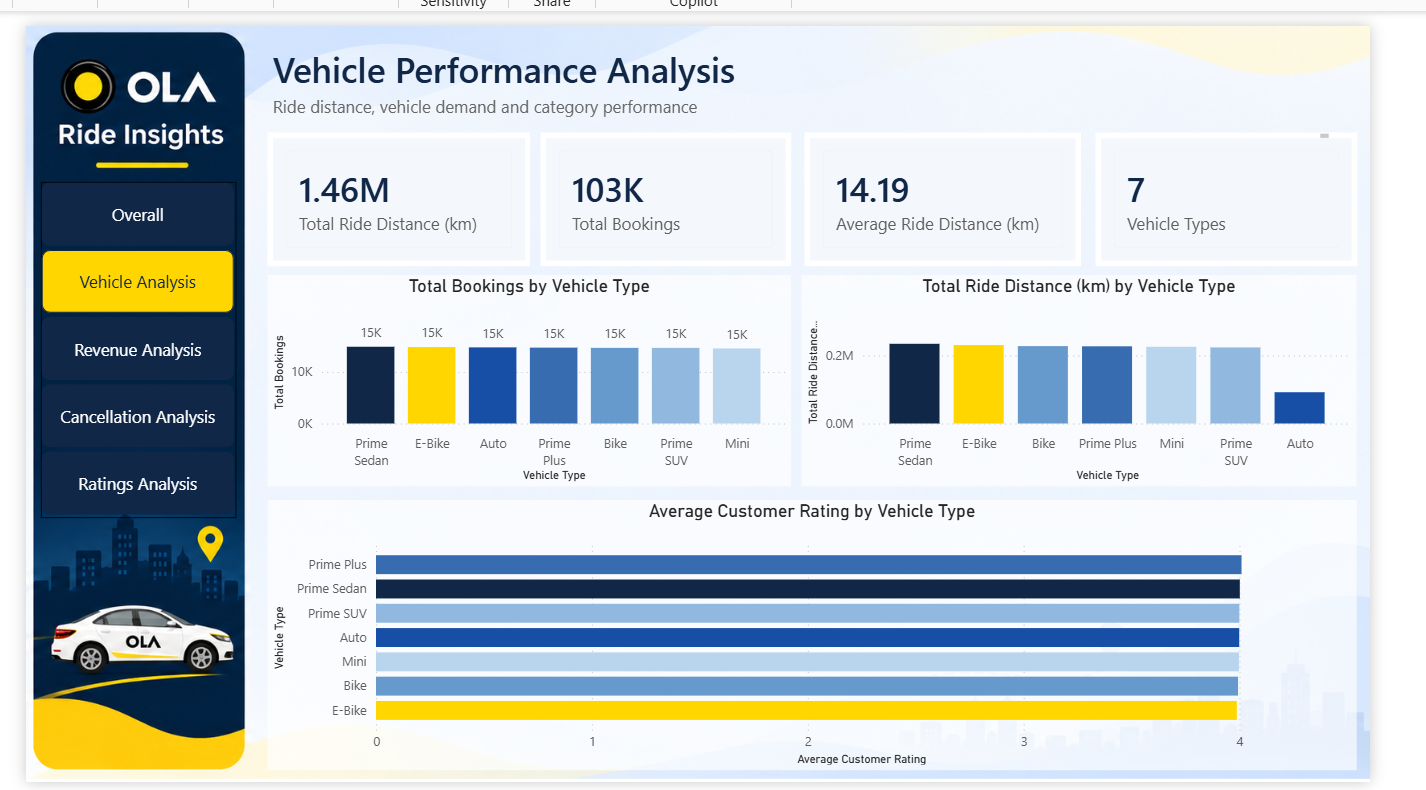

Layout of this report page (visuals, bound fields, positions):
{"tool":"powerbi","page":{"name":"Vehicle Analysis","canvas":[1280,720],"ordinal":1},"visuals":[{"type":"cardVisual","fields":{"Data":["cleaned_ola_data.Total Bookings"]},"box":[490,101.4,238.6,127.1],"z":0},{"type":"cardVisual","fields":{"Data":["cleaned_ola_data.Total Ride Distance"]},"box":[230,101.4,250,127.1],"z":1000},{"type":"cardVisual","fields":{"Data":["cleaned_ola_data.Average Ride Distance"]},"box":[741.3,101.3,263.3,127.6],"z":2000},{"type":"clusteredColumnChart","fields":{"Category":["cleaned_ola_data.Vehicle_Type"],"Y":["cleaned_ola_data.Total Bookings"]},"box":[230,237.1,498.6,201.4],"z":3000},{"type":"clusteredColumnChart","fields":{"Category":["cleaned_ola_data.Vehicle_Type"],"Y":["cleaned_ola_data.Total Ride Distance"]},"box":[738.6,237.1,528.6,201.4],"z":4000},{"type":"barChart","fields":{"Category":["cleaned_ola_data.Vehicle_Type"],"Y":["cleaned_ola_data.Average Customer Rating"]},"box":[230,451.4,1037.1,257.1],"z":5000},{"type":"cardVisual","fields":{"Data":["Count(cleaned_ola_data.Vehicle_Type)"]},"box":[1018.7,101.3,249.1,127.6],"z":6000},{"type":"pageNavigator","box":[14.3,148.6,185.7,320],"z":6001},{"type":"textbox","title":"Vehicle Performance Analysis","box":[230,18.6,1015.7,92.9],"z":6002}]}

Visuals, with their boxes on the page's 1280x720 design canvas (x1, y1, x2, y2). These are canvas units, not pixel positions in the 1426x790 screenshot, which may show the page scaled, cropped or inside an application window:
cardVisual - cleaned_ola_data.Total Bookings: 490 101 729 228
cardVisual - cleaned_ola_data.Total Ride Distance: 230 101 480 228
cardVisual - cleaned_ola_data.Average Ride Distance: 741 101 1005 229
clusteredColumnChart - cleaned_ola_data.Vehicle_Type x cleaned_ola_data.Total Bookings: 230 237 729 438
clusteredColumnChart - cleaned_ola_data.Vehicle_Type x cleaned_ola_data.Total Ride Distance: 739 237 1267 438
barChart - cleaned_ola_data.Vehicle_Type x cleaned_ola_data.Average Customer Rating: 230 451 1267 708
cardVisual - Count(cleaned_ola_data.Vehicle_Type): 1019 101 1268 229
pageNavigator: 14 149 200 469
"Vehicle Performance Analysis" textbox: 230 19 1246 112
